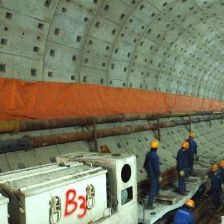helmet: (148, 138, 160, 150), (180, 141, 191, 152), (209, 162, 218, 175), (185, 198, 195, 209), (188, 131, 196, 139), (220, 160, 224, 169)
